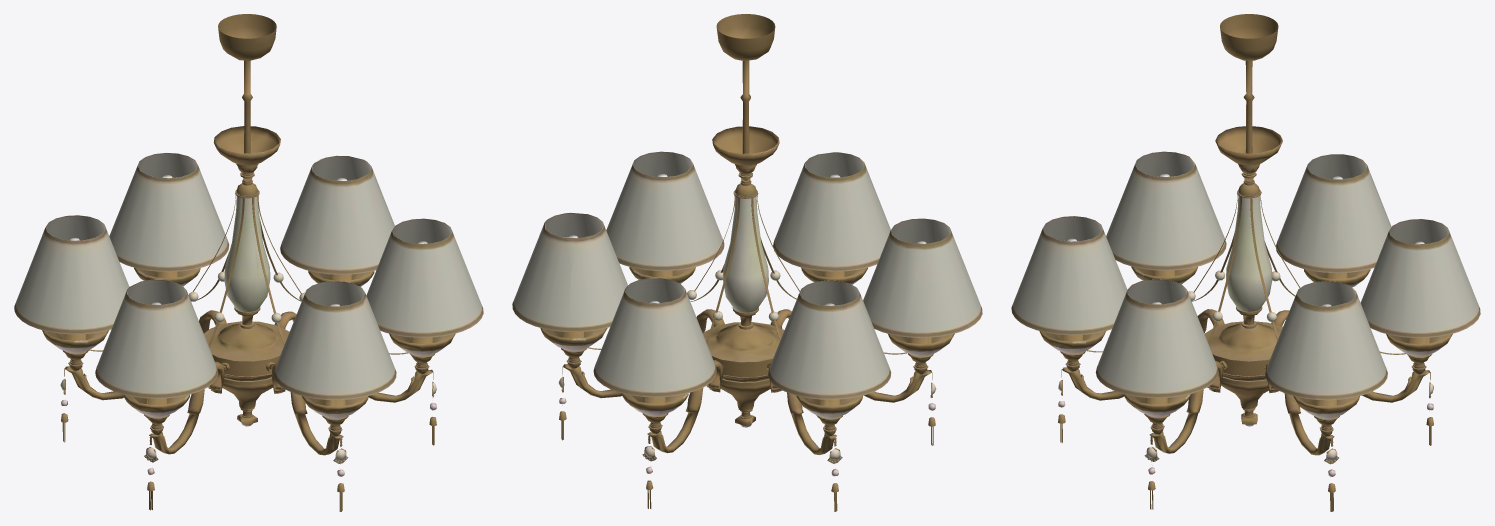
File: chandelier.glb
The picture shows the model from 3 angles, left to right: view 1: azimuth 30°, elevation 25°; view 2: azimuth 150°, elevation 25°; view 3: azimuth 270°, elevation 25°; orthographic projection.
Parts seen in each view (by area): view 1: Chandelier_01; view 2: Chandelier_01; view 3: Chandelier_01.
Boxes of the visible parts, <box> form: Chandelier_01: <box>14,14,483,511</box>; Chandelier_01: <box>512,14,982,511</box>; Chandelier_01: <box>1011,14,1480,511</box>.
Size of the model in its own units: 0.7465 by 0.7982 by 0.8155.
2 materials, 1 textured.
